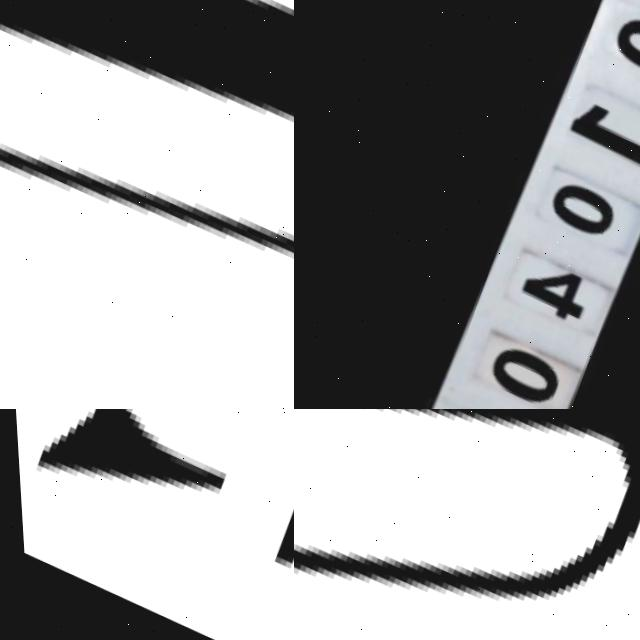0: (526, 159, 630, 246), (465, 324, 571, 409), (589, 0, 640, 85)
1: (554, 71, 640, 169)
4: (493, 237, 606, 331)
G: (0, 409, 294, 640)
U: (0, 0, 294, 400), (294, 409, 640, 640)
